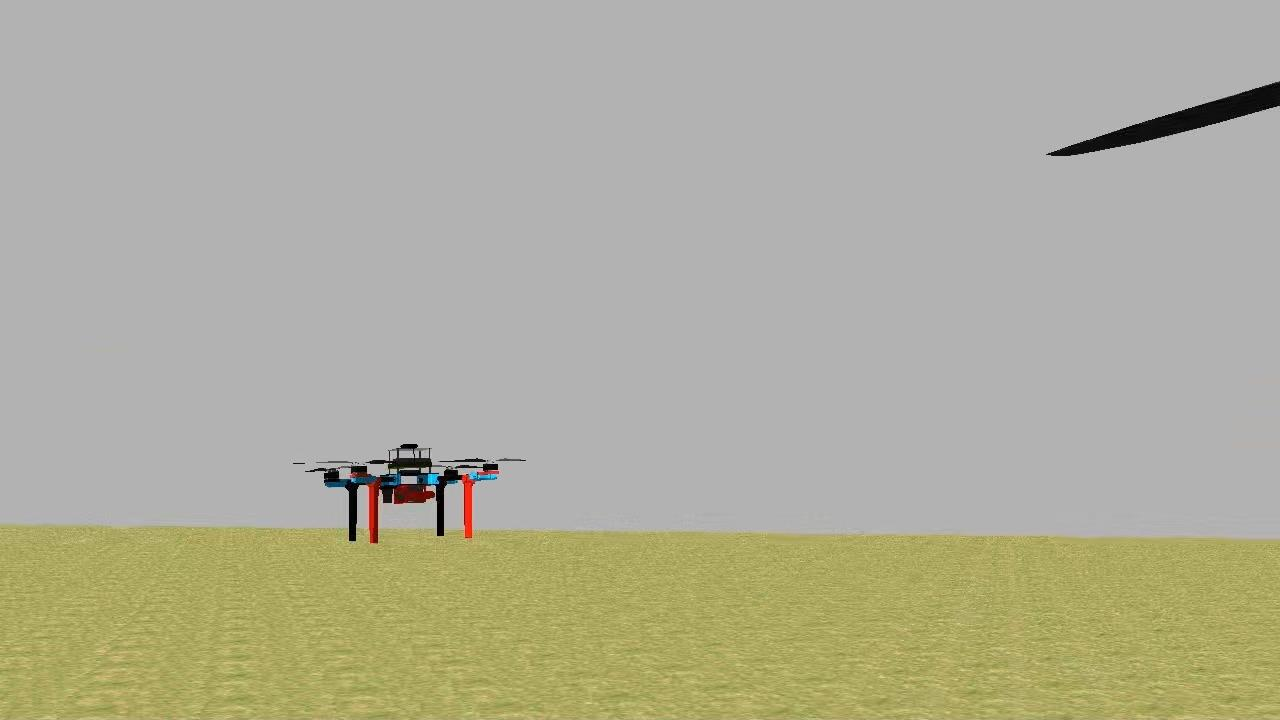UAV: (318, 440, 508, 552)
